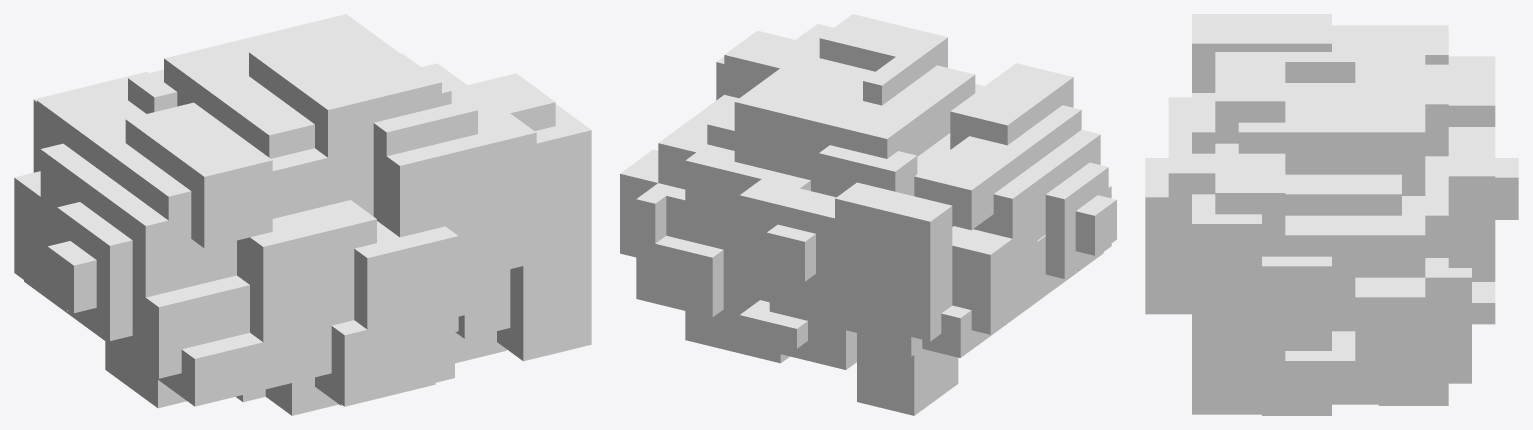
Rendered from cloud_04.obj.
The picture shows the model from 3 angles, left to right: view 1: azimuth 30°, elevation 25°; view 2: azimuth 150°, elevation 25°; view 3: azimuth 270°, elevation 25°; orthographic projection. The views are drawn at different scales.
Bounding box in the file's own units: 22 × 14 × 16.
1 material, 1 textured.
